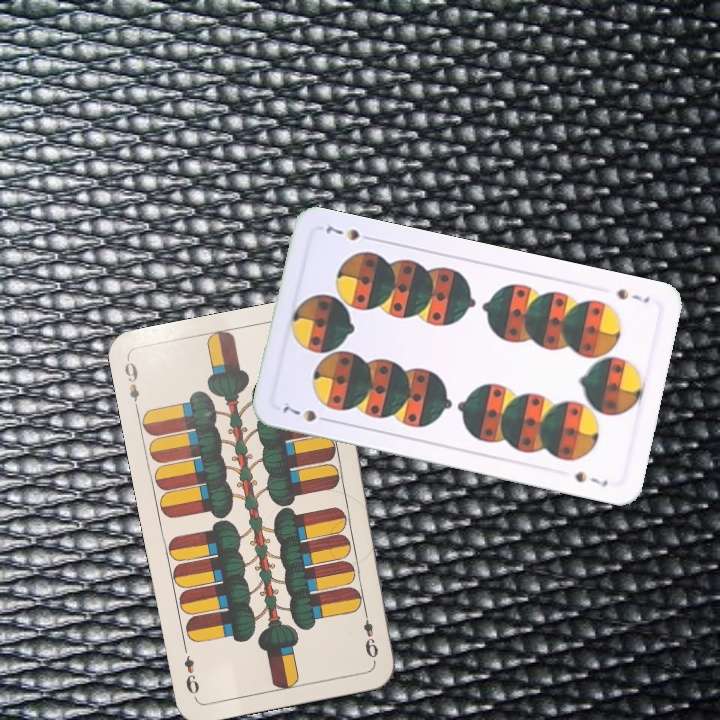E9: (359, 605, 381, 664), (120, 355, 142, 414)
S7: (279, 402, 334, 425), (613, 285, 652, 306)
